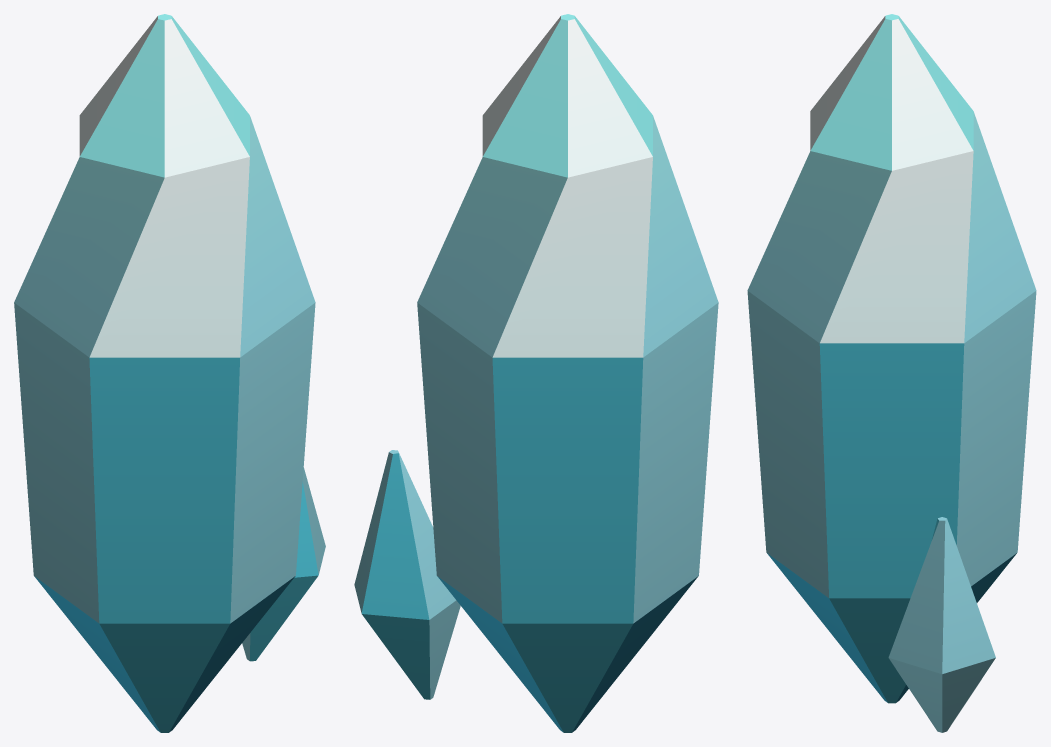
The model's file is Crystal.fbx.
The picture shows the model from 3 angles, left to right: view 1: azimuth 30°, elevation 25°; view 2: azimuth 150°, elevation 25°; view 3: azimuth 270°, elevation 25°; orthographic projection. The views are drawn at different scales.
Visible parts, largest first — view 1: Gem, Shard; view 2: Gem, Shard; view 3: Gem, Shard.
Boxes of the visible parts, left/top/right/bottom form: Gem: left=14, top=14, right=315, bottom=732; Shard: left=242, top=467, right=325, bottom=661; Gem: left=417, top=14, right=718, bottom=732; Shard: left=354, top=450, right=460, bottom=699; Gem: left=747, top=14, right=1036, bottom=703; Shard: left=888, top=517, right=995, bottom=732.
Bounding box in the file's own units: 0.2646 × 0.6 × 0.23.
Materials: 1 (1 with a texture image).
